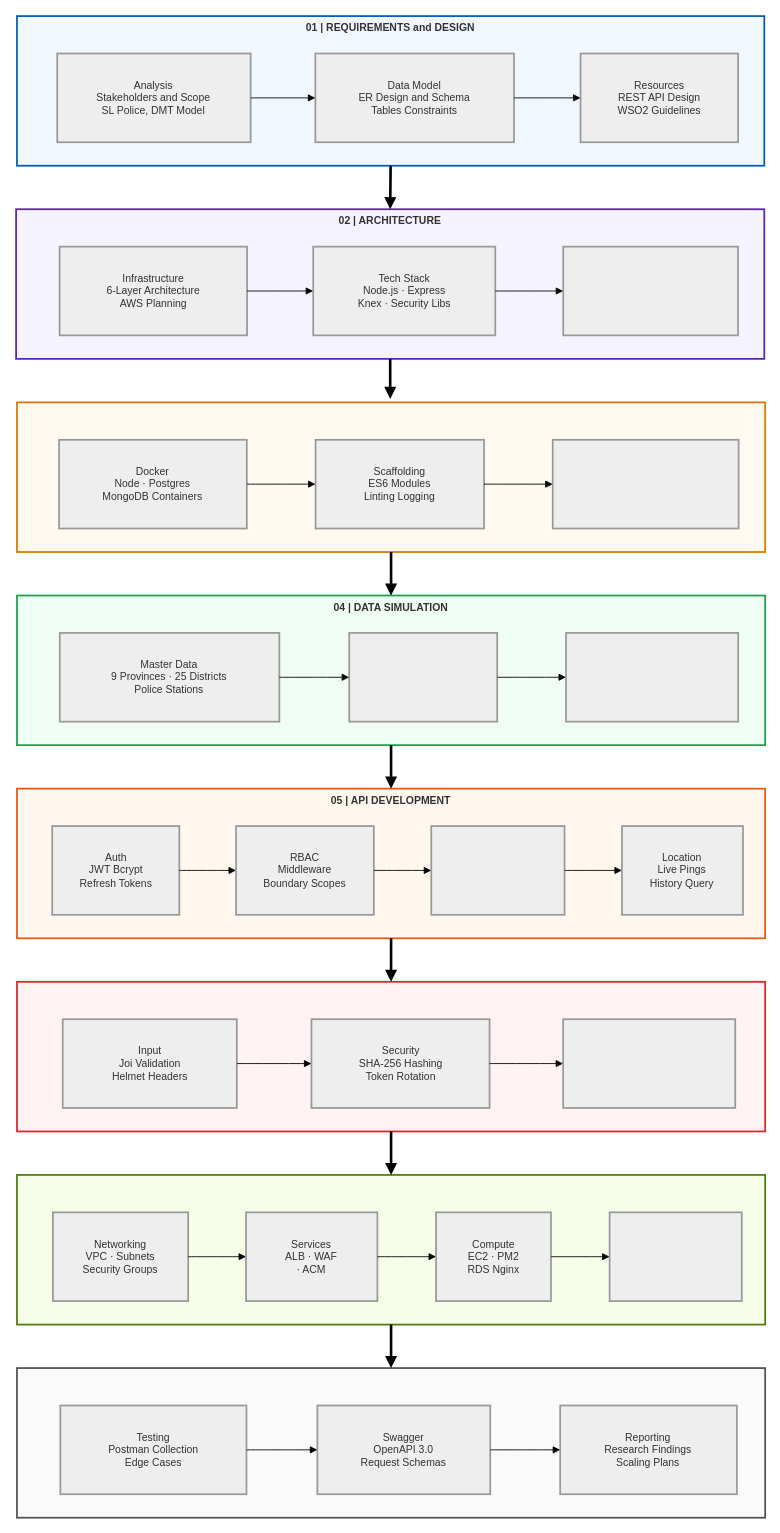
This 780x1533 diagram has some shape labels left out. Here are the shapes that lost their labels. From the top down, the box of each, then its label:
(562, 245, 738, 336): Git Strategy Branching, CI/CD GitHub Actions
(16, 401, 766, 552): 03 | LOCAL ENVIRONMENT
(551, 438, 739, 529): Migrations Knex Table Creation Foreign Keys
(348, 632, 498, 722): Assets 200+ Tuk-Tuks Device Keys
(565, 632, 739, 722): Simulator Node.js Script Realistic Patterns
(430, 825, 565, 915): Core CRUD Endpoints Status Codes
(16, 980, 766, 1132): 06 | HARDENING
(562, 1018, 736, 1108): Abuse Rate Limiting Pagination Caps
(16, 1174, 766, 1325): 07 | AWS DEPLOYMENT
(608, 1211, 742, 1302): Automation Auto-Deploy Zero Downtime
(16, 1367, 766, 1518): 08 | FINALIZATION
